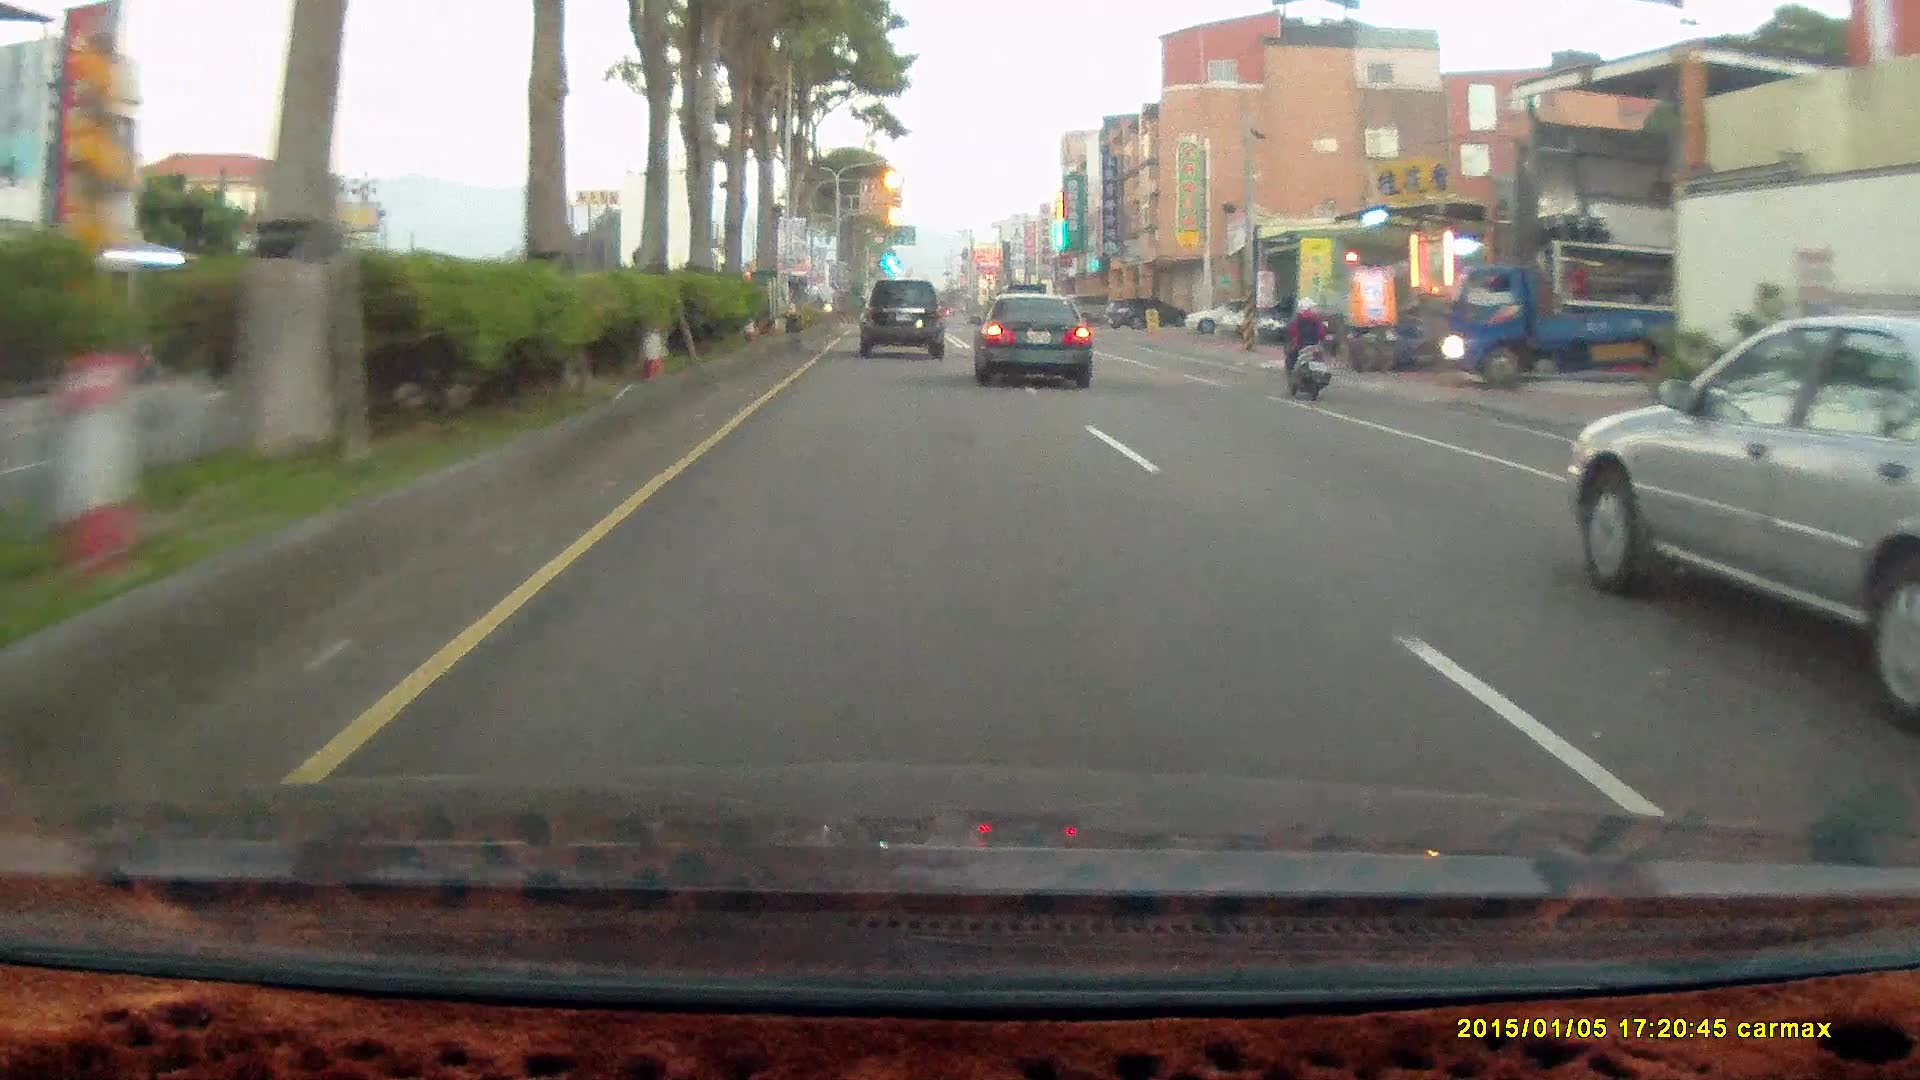rider: (1270, 286, 1344, 410), (1277, 298, 1335, 402)
vehicle: (1569, 310, 1920, 727), (1445, 242, 1681, 389), (1442, 268, 1725, 389), (966, 293, 1093, 390), (978, 296, 1100, 390), (857, 278, 945, 359), (862, 282, 951, 361), (1262, 295, 1358, 345), (1185, 299, 1275, 335), (1106, 298, 1184, 331), (1067, 293, 1128, 328)
